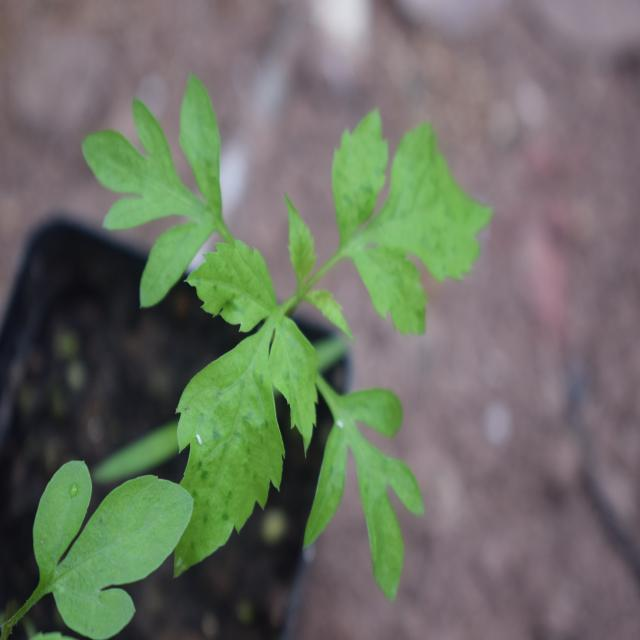Bidens pilosa: (93, 64, 466, 582)
